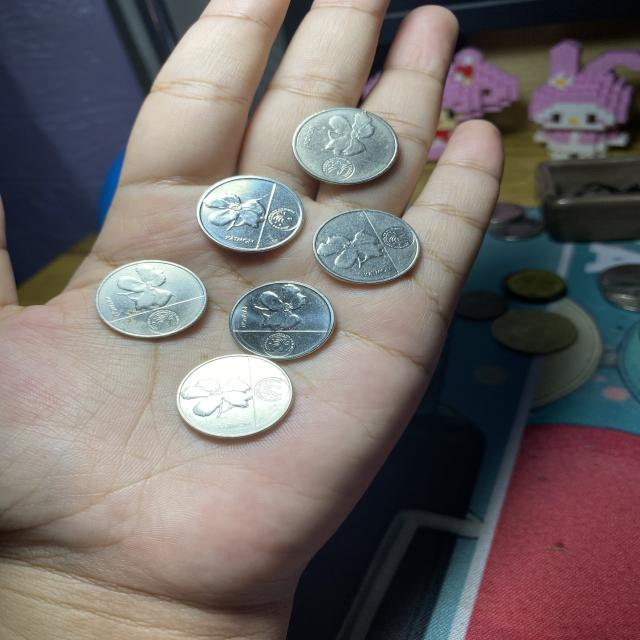25Cent_New_Back: (179, 369, 257, 421), (316, 224, 392, 274), (104, 264, 181, 309), (199, 187, 260, 238), (258, 283, 316, 328), (318, 110, 371, 157)
